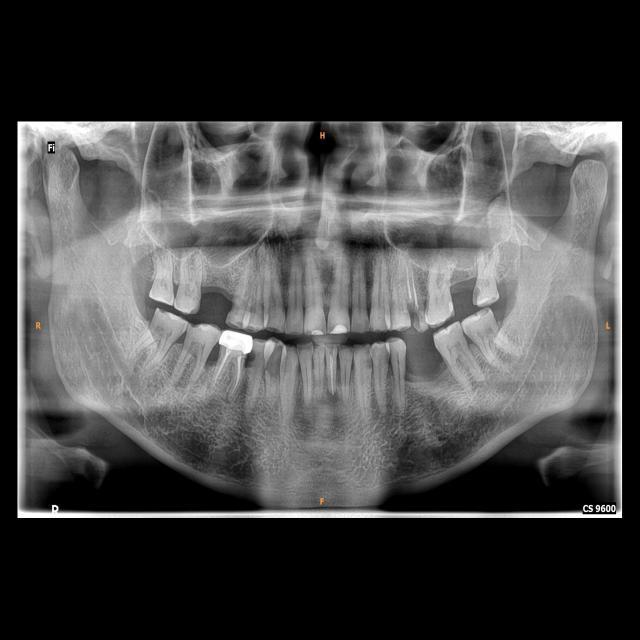dentin-curugu: (405, 302, 427, 332), (245, 348, 263, 376), (470, 285, 489, 308)
dolgu: (327, 317, 348, 337), (302, 320, 324, 338)
kanal-tedavisi: (218, 349, 243, 397), (403, 267, 420, 305), (327, 356, 337, 394)
kaplama: (217, 326, 256, 356)
